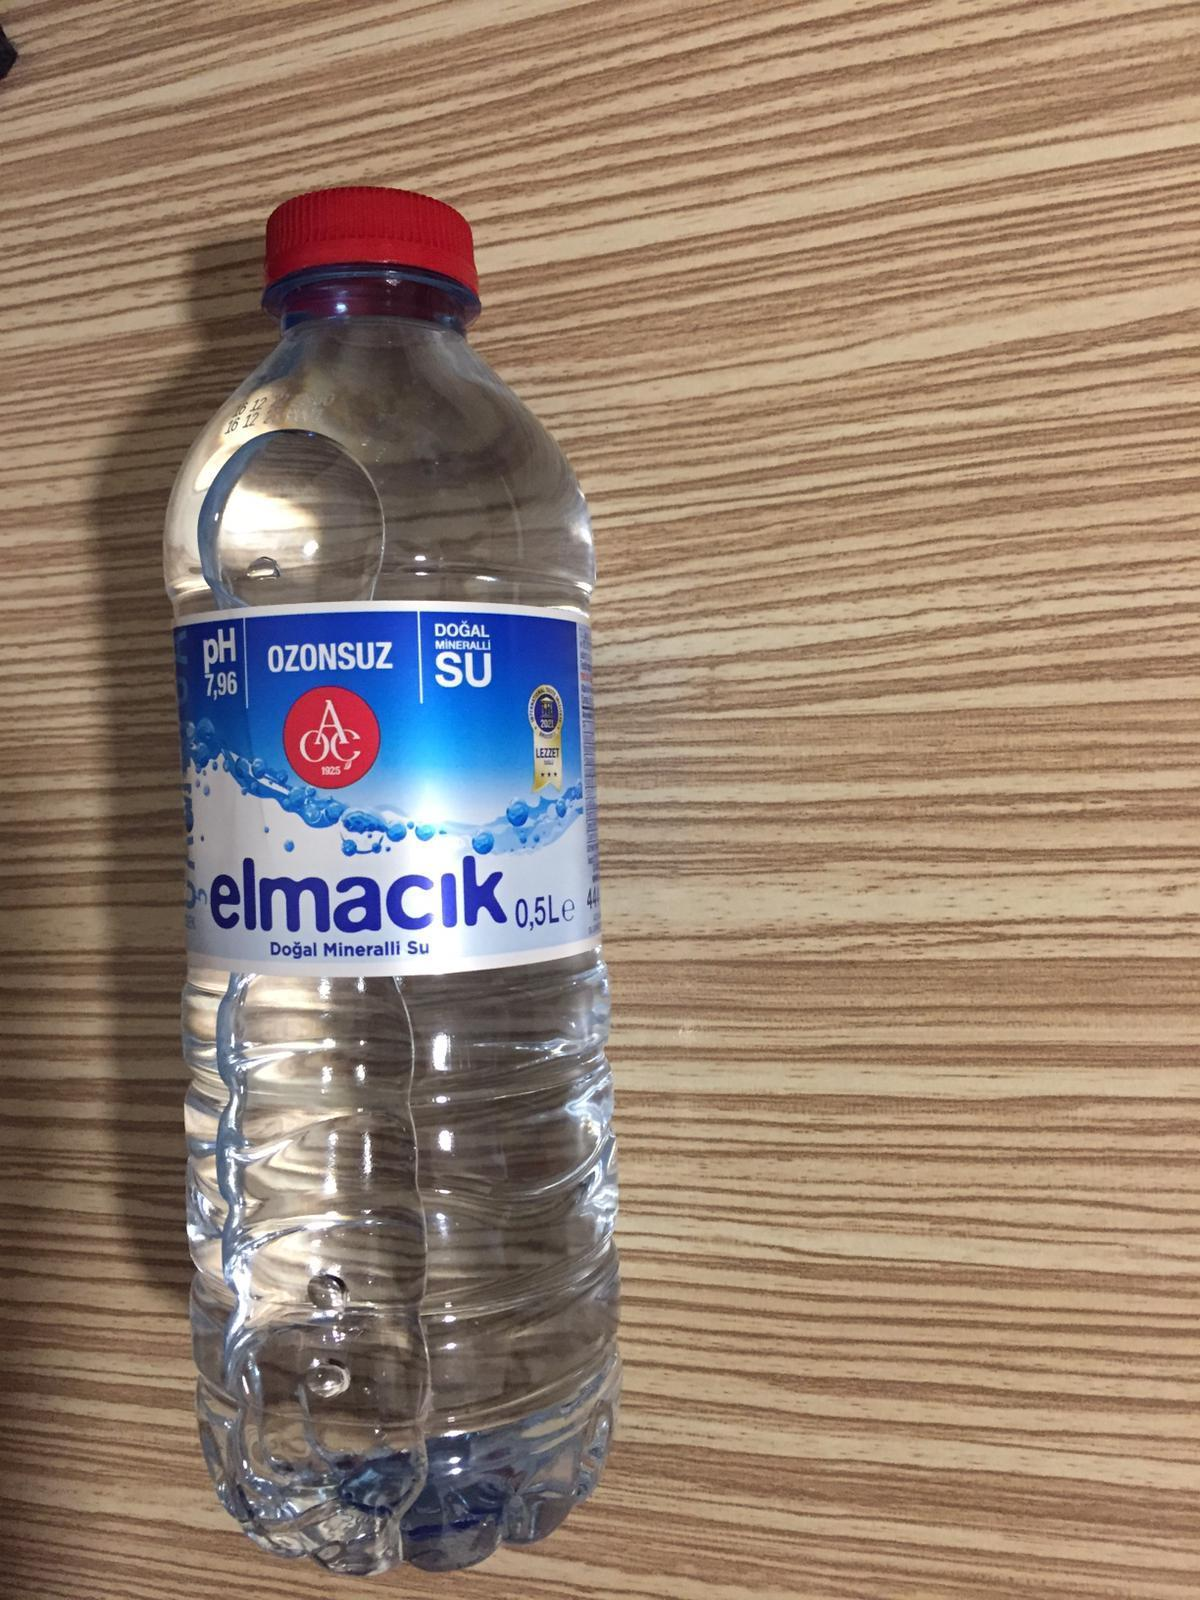bottle: (174, 175, 613, 1563)
